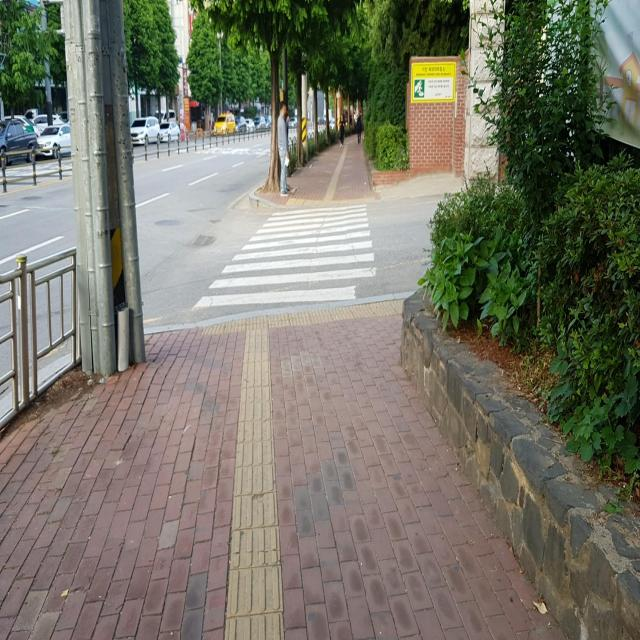횡단보도: (191, 202, 377, 311)
